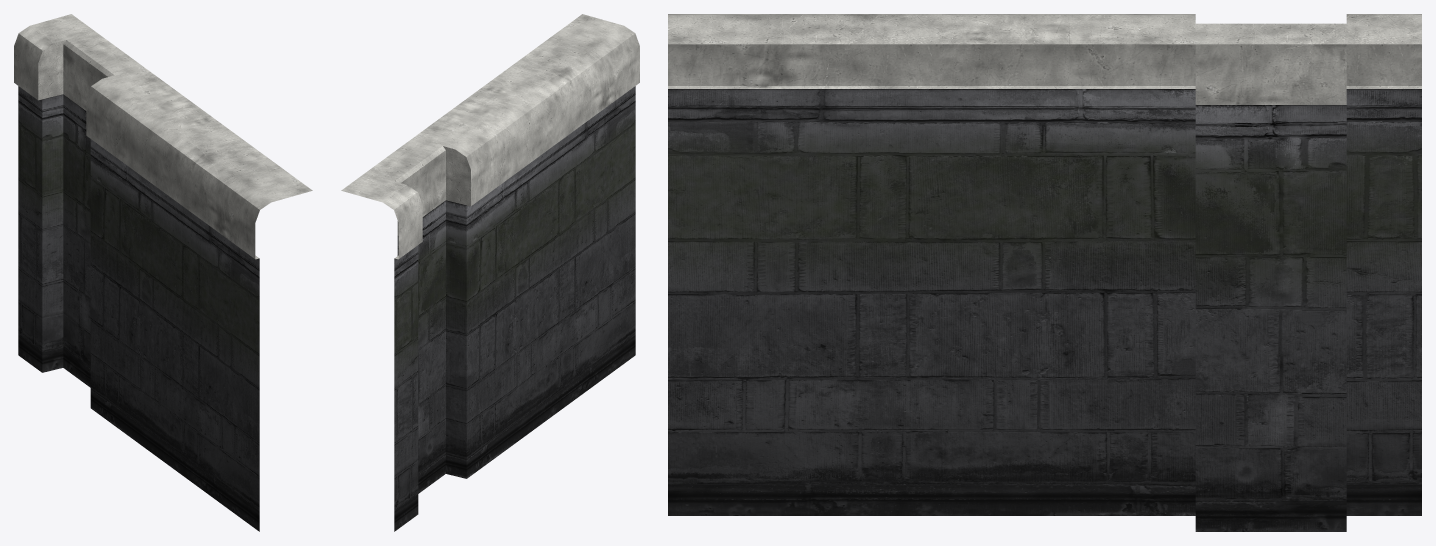
The model's file is SM_Banchina_Mod4m_Nicchia_LOD2.fbx.
3 renders of one model, left to right at view 1: azimuth 30°, elevation 25°; view 2: azimuth 150°, elevation 25°; view 3: azimuth 270°, elevation 25°, orthographic. The views are drawn at different scales.
Visible parts, largest first — view 1: SM_Banchina_Mod4m_Nicchia_LOD2; view 2: SM_Banchina_Mod4m_Nicchia_LOD2; view 3: SM_Banchina_Mod4m_Nicchia_LOD2.
Part boxes in pixels (x1,y1,x2,y2): SM_Banchina_Mod4m_Nicchia_LOD2: [14, 14, 312, 531]; SM_Banchina_Mod4m_Nicchia_LOD2: [341, 14, 639, 531]; SM_Banchina_Mod4m_Nicchia_LOD2: [668, 14, 1421, 531].
Size of the model in its own units: 55 by 400 by 300.
Materials: 2 (2 with a texture image).
